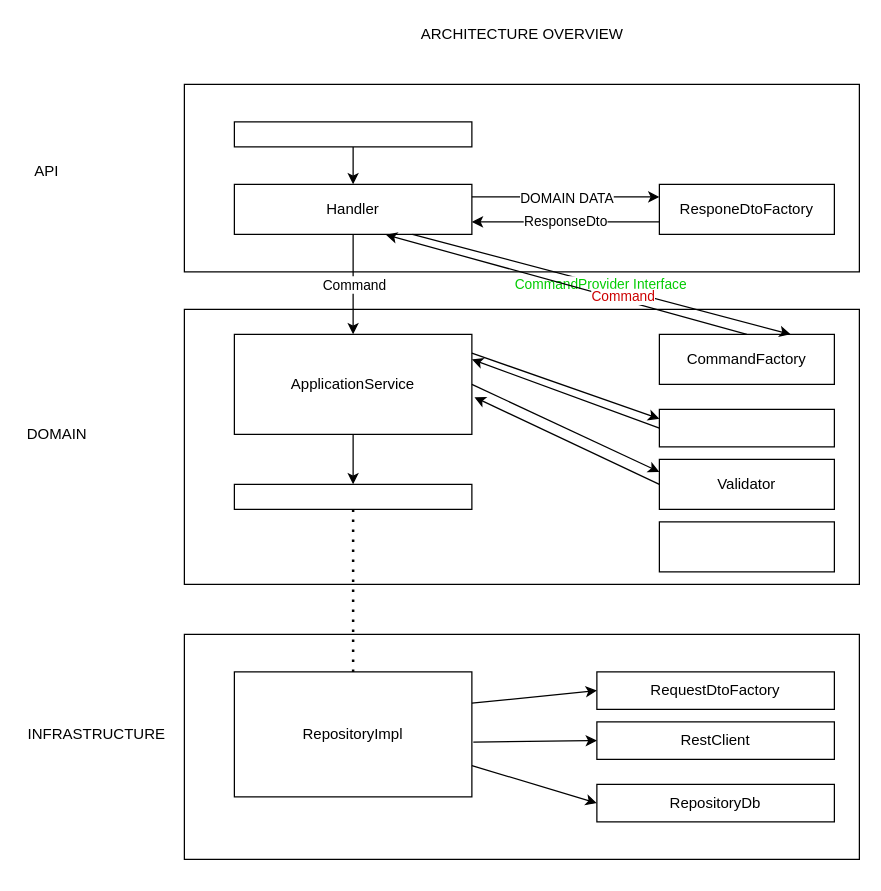
Image size: 881x891. Some labels were removed from this diagram. Each missing label, with the box of its shape:
Controller: (233, 121, 472, 147)
Factory: (658, 521, 834, 572)
Repository <Interface>: (233, 483, 472, 509)
Resolver: (658, 408, 834, 447)
